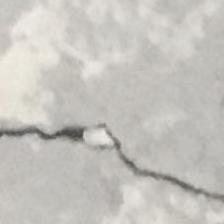Crack: (0, 102, 224, 218)
